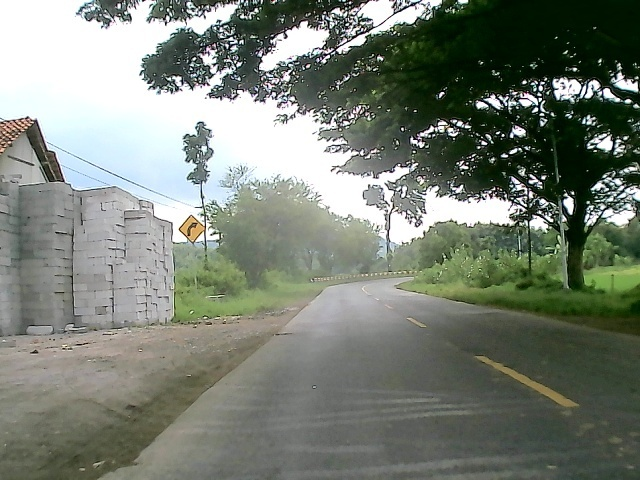Tikungan ke kanan: (176, 214, 208, 245)
